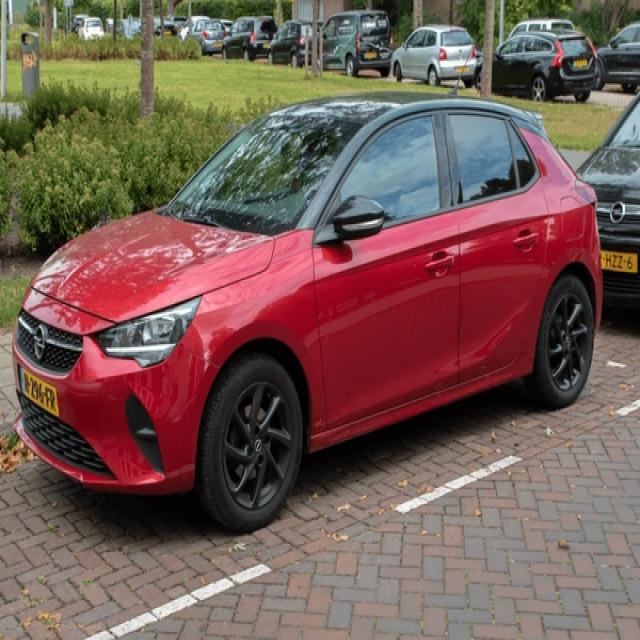opel: (31, 325, 49, 360)
